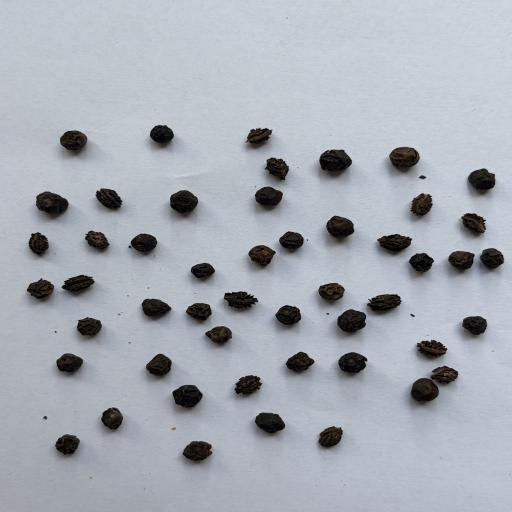Black_pepper: (162, 381, 214, 415), (174, 434, 219, 472), (47, 424, 89, 462), (315, 142, 358, 178), (132, 295, 178, 327), (31, 184, 74, 218), (455, 308, 501, 338), (316, 210, 360, 241), (464, 165, 500, 202), (246, 410, 290, 440), (338, 346, 374, 382), (22, 268, 58, 304), (281, 345, 322, 376), (138, 122, 182, 149), (138, 348, 177, 378), (388, 142, 426, 172), (161, 189, 201, 217), (274, 301, 307, 332), (126, 227, 162, 255), (273, 225, 310, 252), (201, 324, 234, 354), (333, 310, 374, 332), (184, 298, 216, 326), (57, 130, 91, 156), (74, 313, 108, 339), (95, 405, 129, 431), (408, 246, 437, 276), (445, 247, 478, 273), (249, 186, 285, 209), (408, 378, 437, 406), (243, 242, 274, 268), (53, 354, 86, 378), (316, 281, 346, 307), (479, 247, 508, 272), (190, 261, 216, 283)
papaya_seed: (310, 414, 350, 456), (406, 326, 452, 360), (228, 362, 266, 398), (458, 205, 496, 240), (82, 224, 120, 258), (405, 188, 438, 225), (60, 267, 102, 294), (94, 182, 128, 214), (240, 124, 282, 149), (22, 230, 58, 256), (378, 227, 412, 254), (225, 288, 258, 314), (430, 364, 468, 384), (265, 152, 291, 180), (369, 291, 403, 311)
